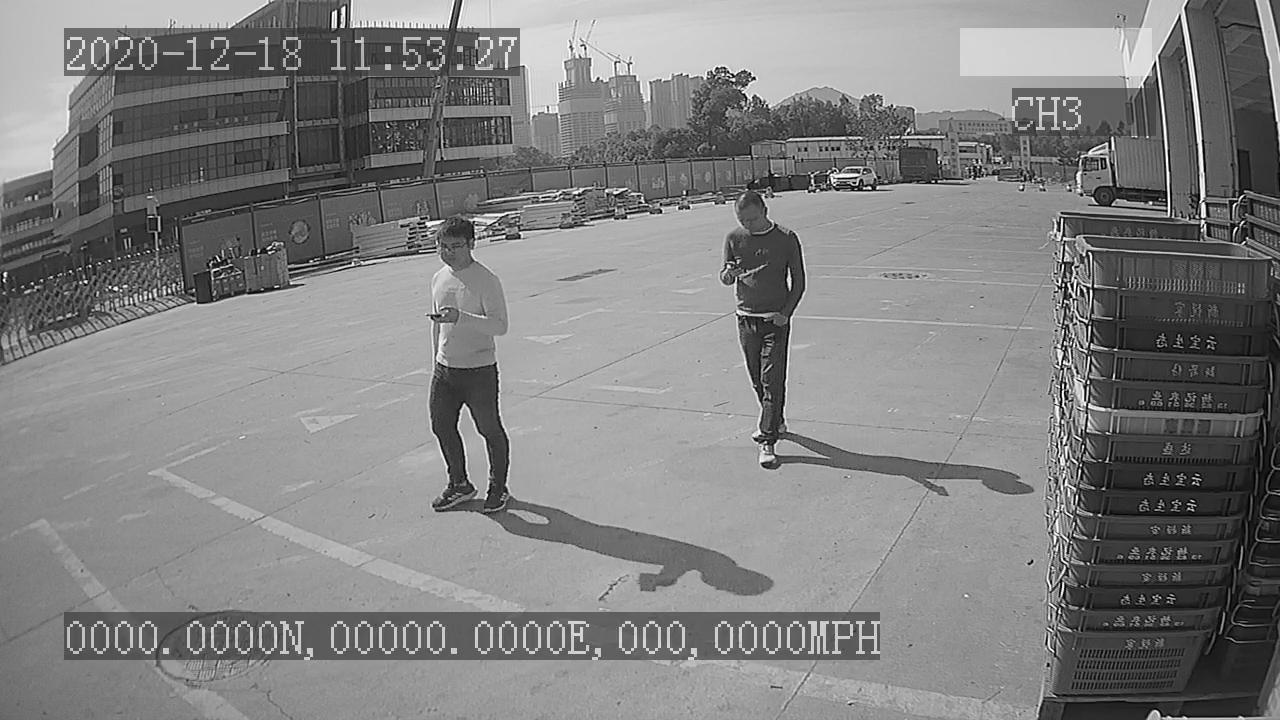person: (413, 211, 517, 522), (709, 185, 813, 474)
